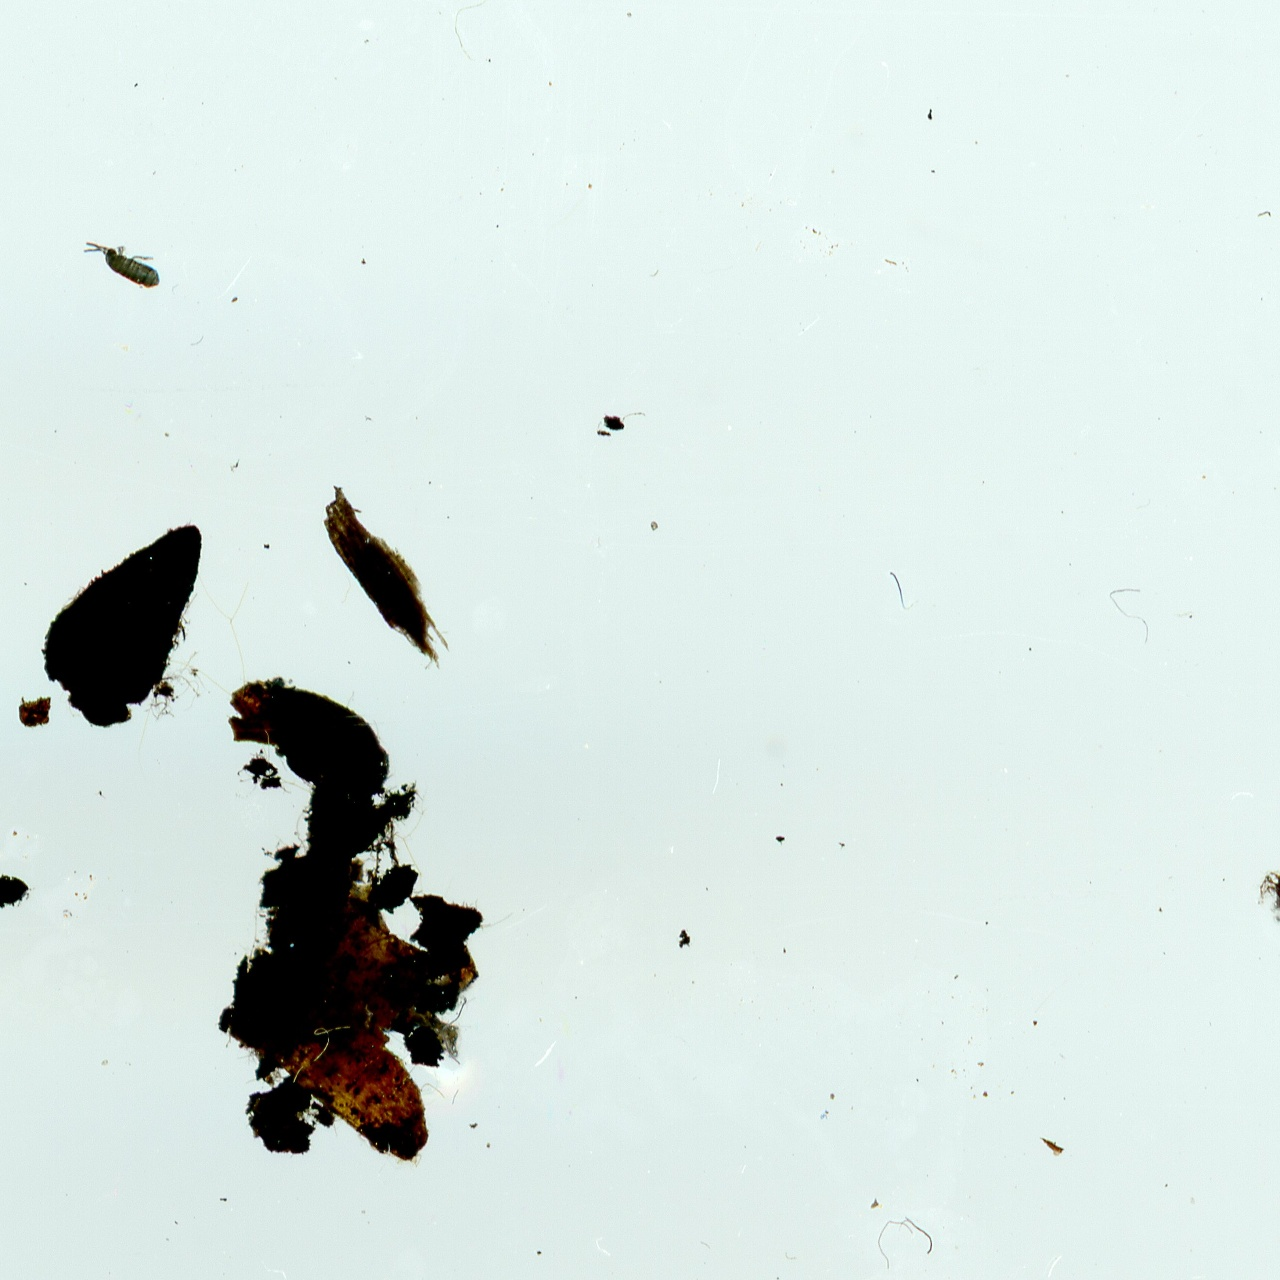arthropod: (77, 229, 169, 295)
